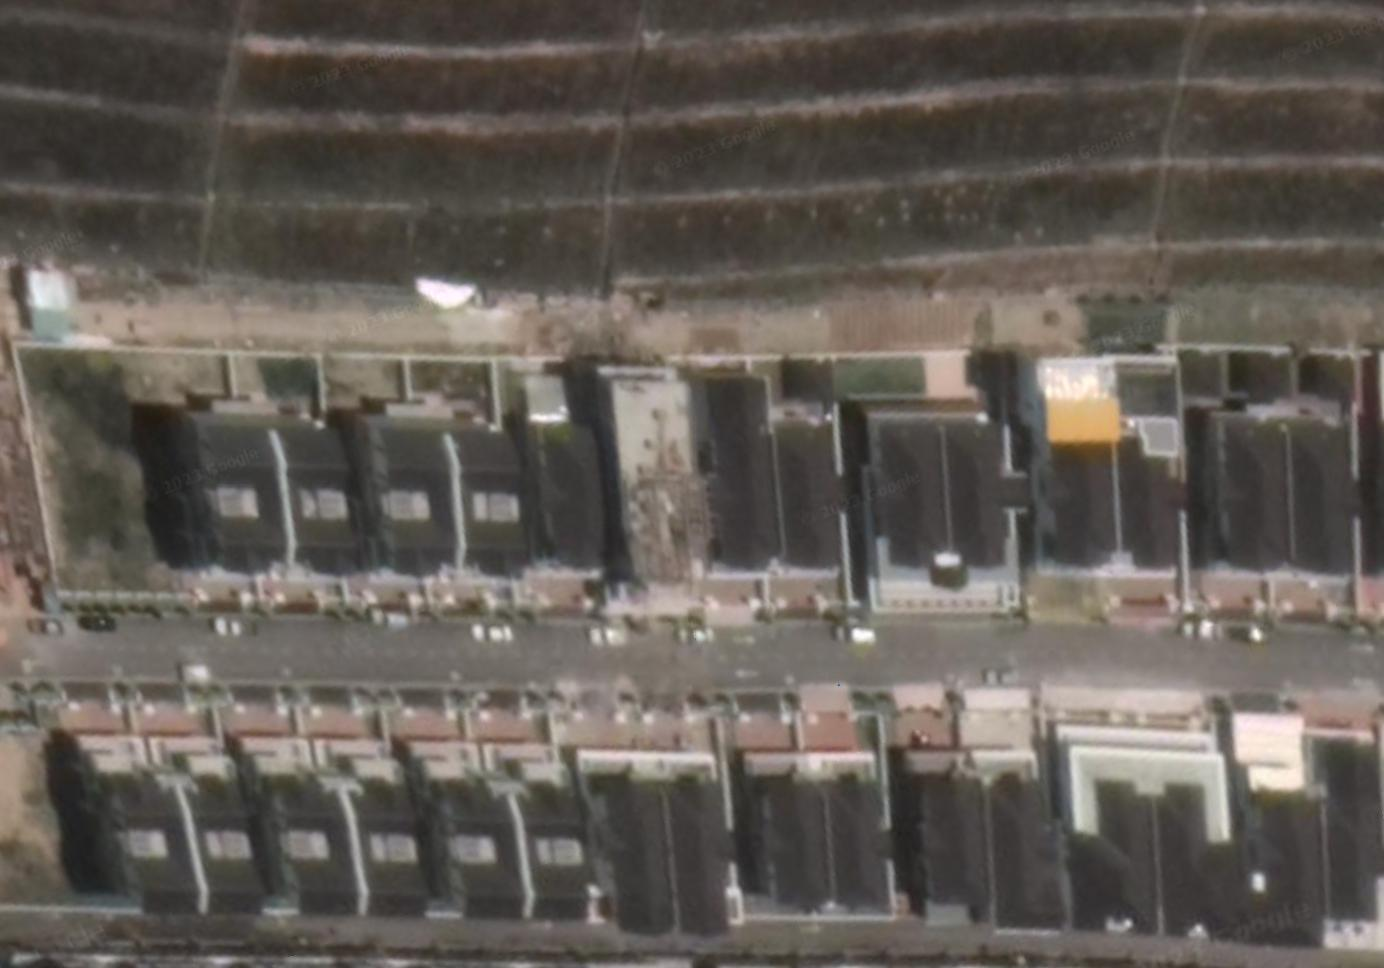building: (120, 394, 285, 579), (256, 400, 371, 584), (351, 391, 455, 589), (155, 745, 271, 921), (691, 361, 788, 571), (77, 745, 195, 917), (314, 747, 432, 917), (408, 747, 520, 925), (1197, 399, 1300, 584), (429, 411, 535, 589), (489, 753, 596, 926), (854, 408, 954, 590), (1032, 391, 1127, 572), (1301, 718, 1383, 928), (1235, 775, 1330, 954), (518, 412, 620, 579), (257, 747, 354, 920), (1062, 771, 1156, 948), (945, 407, 1034, 593), (583, 752, 669, 943), (979, 759, 1070, 940), (656, 757, 744, 943), (1149, 769, 1241, 946), (733, 755, 832, 919), (815, 753, 913, 916), (1295, 401, 1377, 588), (775, 409, 859, 574), (899, 757, 984, 916), (1124, 424, 1194, 578)
